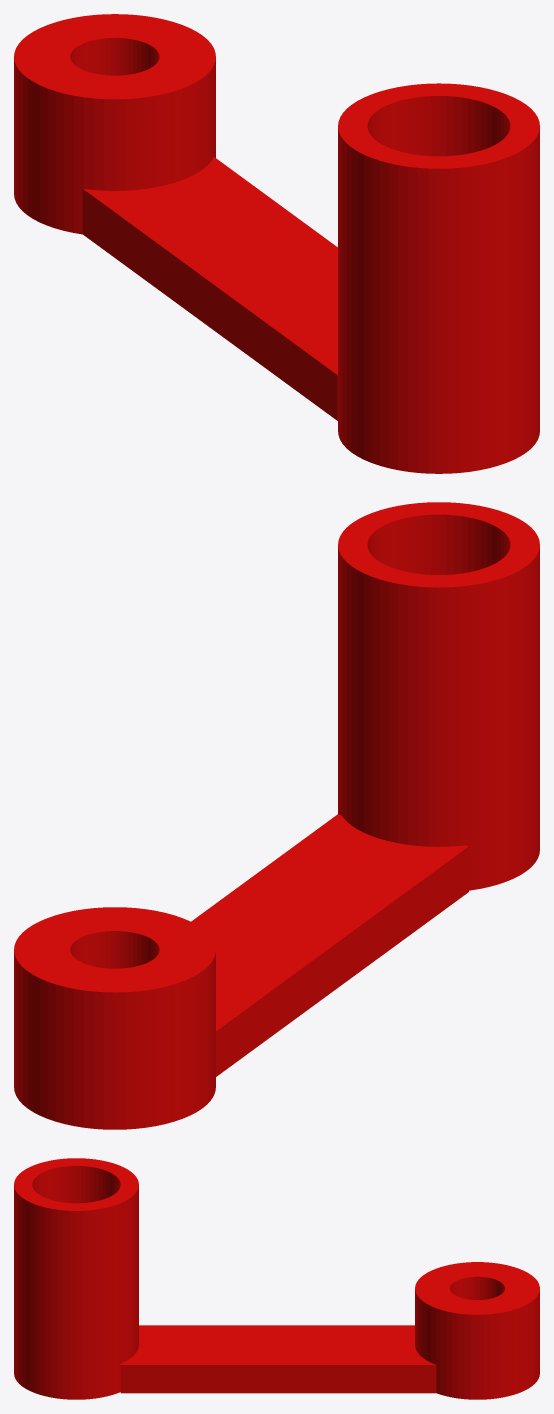
File: inks_2_PCBWay Community.017.dae
The picture shows the model from 3 angles, top to bottom: view 1: azimuth 30°, elevation 25°; view 2: azimuth 150°, elevation 25°; view 3: azimuth 270°, elevation 25°; orthographic projection. The views are drawn at different scales.
Parts seen in each view (by area): view 1: tmp_export_inks_2_PCBWay Community.017; view 2: tmp_export_inks_2_PCBWay Community.017; view 3: tmp_export_inks_2_PCBWay Community.017.
Boxes of the visible parts, bbox=[...] form: tmp_export_inks_2_PCBWay Community.017: bbox=[14, 14, 539, 473]; tmp_export_inks_2_PCBWay Community.017: bbox=[14, 502, 539, 1129]; tmp_export_inks_2_PCBWay Community.017: bbox=[14, 1158, 539, 1399].
Bounding box in the file's own units: 0.012 × 0.0505 × 0.02.
